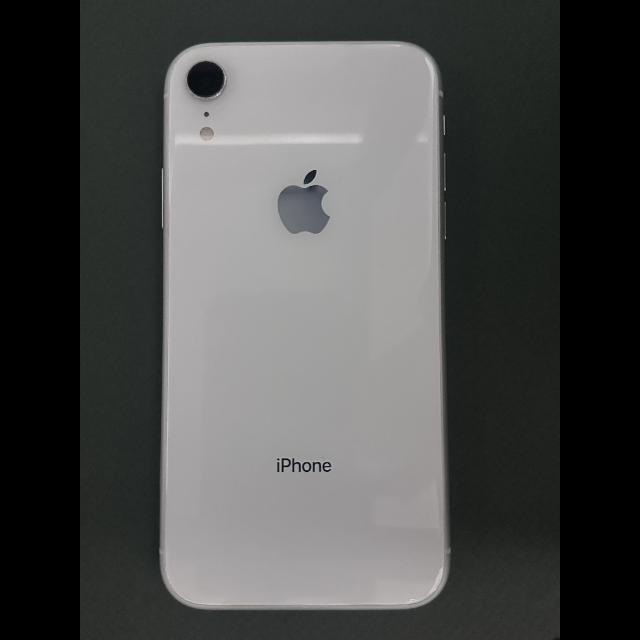lens: (187, 59, 226, 98)
phone: (159, 39, 450, 611)
